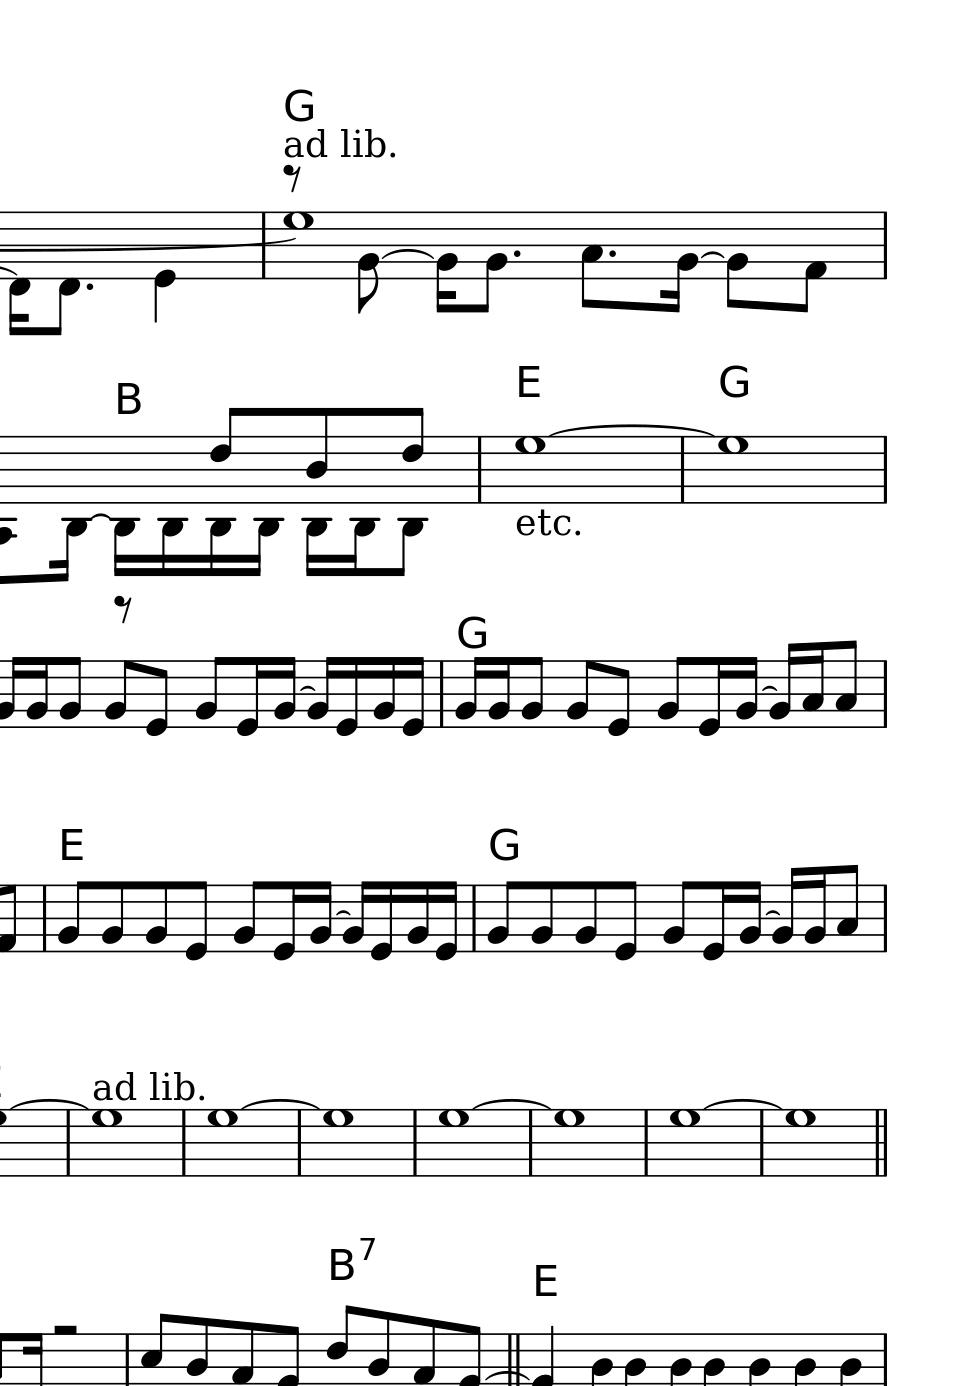16_-1: (7, 205, 31, 338)
16_-3: (56, 434, 91, 582), (250, 434, 282, 575), (207, 433, 234, 575), (349, 433, 377, 575), (110, 436, 137, 578), (158, 433, 185, 575), (304, 435, 331, 577)
16_0: (693, 655, 728, 739), (232, 656, 267, 739), (269, 879, 303, 964), (698, 879, 732, 963), (398, 654, 426, 738), (333, 654, 361, 739), (432, 879, 459, 963), (368, 878, 395, 964)
16_2: (660, 209, 698, 315), (769, 865, 802, 954), (766, 641, 799, 729), (434, 210, 458, 315), (304, 654, 337, 732), (340, 878, 372, 957), (453, 655, 485, 730), (803, 865, 827, 955), (307, 878, 333, 954), (405, 879, 431, 957), (486, 656, 512, 730), (272, 654, 297, 730), (371, 655, 397, 731), (733, 654, 758, 730), (24, 655, 50, 729), (737, 878, 762, 954)
16_3: (801, 641, 824, 730)
1_7: (88, 1107, 123, 1179), (716, 435, 750, 506), (321, 1107, 354, 1179), (206, 1108, 239, 1178), (514, 436, 547, 505)
4_0: (152, 209, 175, 326)
7: (358, 1235, 377, 1262)
8_-1: (51, 208, 81, 336)
8_-3: (390, 436, 428, 578)
8_0: (181, 878, 211, 964), (611, 879, 640, 964), (605, 659, 633, 740), (143, 657, 171, 740)
8_1: (795, 208, 826, 315)
8_2: (476, 210, 506, 315), (355, 210, 380, 315), (192, 655, 226, 730), (230, 879, 263, 954), (484, 879, 517, 954), (660, 879, 693, 954), (654, 655, 687, 730), (724, 211, 749, 311), (563, 659, 596, 730), (56, 879, 87, 954), (102, 659, 134, 729), (573, 879, 599, 955), (99, 879, 125, 954), (143, 879, 169, 954), (529, 879, 555, 954), (519, 655, 544, 730), (57, 655, 82, 730)
8_3: (579, 209, 603, 311), (833, 638, 858, 729), (835, 863, 859, 954)
8_4: (303, 405, 330, 505)
8_6: (208, 405, 241, 505), (399, 405, 424, 506)
8_7: (437, 1108, 470, 1179), (552, 1109, 584, 1179), (668, 1108, 701, 1178), (783, 1108, 816, 1178), (283, 211, 314, 282)
Final_barline: (870, 1109, 891, 1177)
Rests2: (49, 1319, 81, 1341)
Rests8: (111, 593, 134, 624)
Single_barline: (875, 211, 894, 279), (875, 436, 894, 504), (673, 438, 692, 502), (406, 1109, 423, 1176), (637, 1109, 654, 1176), (255, 212, 272, 278), (465, 885, 482, 951), (175, 1110, 192, 1176), (753, 1110, 770, 1176), (877, 660, 893, 729), (877, 884, 893, 953), (433, 660, 449, 727), (37, 884, 53, 952), (60, 1111, 77, 1175), (471, 437, 487, 503), (522, 1110, 538, 1176), (291, 1110, 307, 1175)
Slur: (547, 421, 710, 439), (238, 1096, 320, 1110), (471, 1098, 552, 1111), (703, 1099, 781, 1110), (7, 1099, 89, 1109), (381, 249, 437, 261), (699, 252, 727, 261), (759, 685, 778, 694), (298, 686, 316, 694)
dot: (605, 247, 618, 261), (510, 247, 523, 260), (83, 280, 97, 292)
